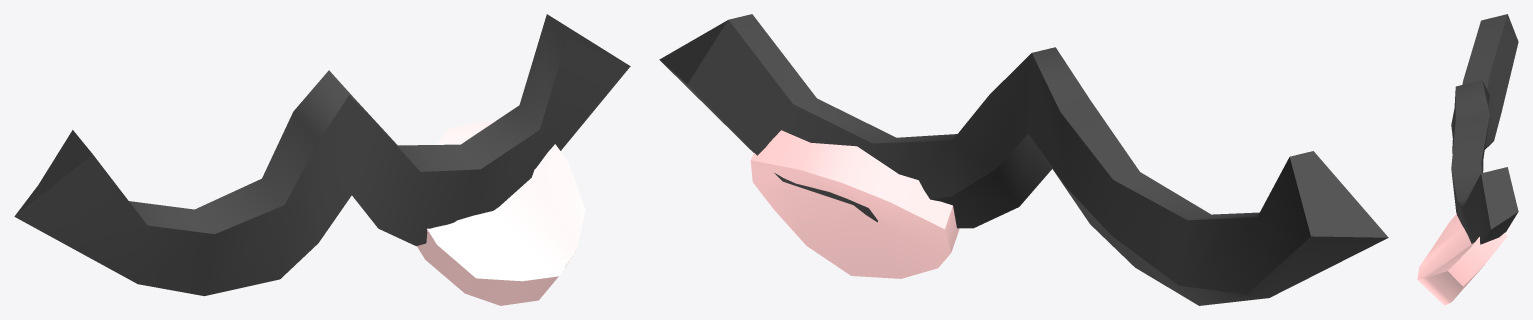
Rendered from CUSTOM_merong_mouth.gltf.
3 renders of one model, left to right at view 1: azimuth 30°, elevation 25°; view 2: azimuth 150°, elevation 25°; view 3: azimuth 270°, elevation 25°, orthographic. The views are drawn at different scales.
Parts seen in each view (by area): view 1: CUSTOM_merong_mouth; view 2: CUSTOM_merong_mouth; view 3: CUSTOM_merong_mouth.
Part boxes in pixels (box(x1,y1,x2,y2)): CUSTOM_merong_mouth: box(14, 14, 630, 305); CUSTOM_merong_mouth: box(659, 14, 1388, 305); CUSTOM_merong_mouth: box(1417, 14, 1518, 305).
Bounding box in the file's own units: 0.0113 × 0.00446 × 0.00244.
